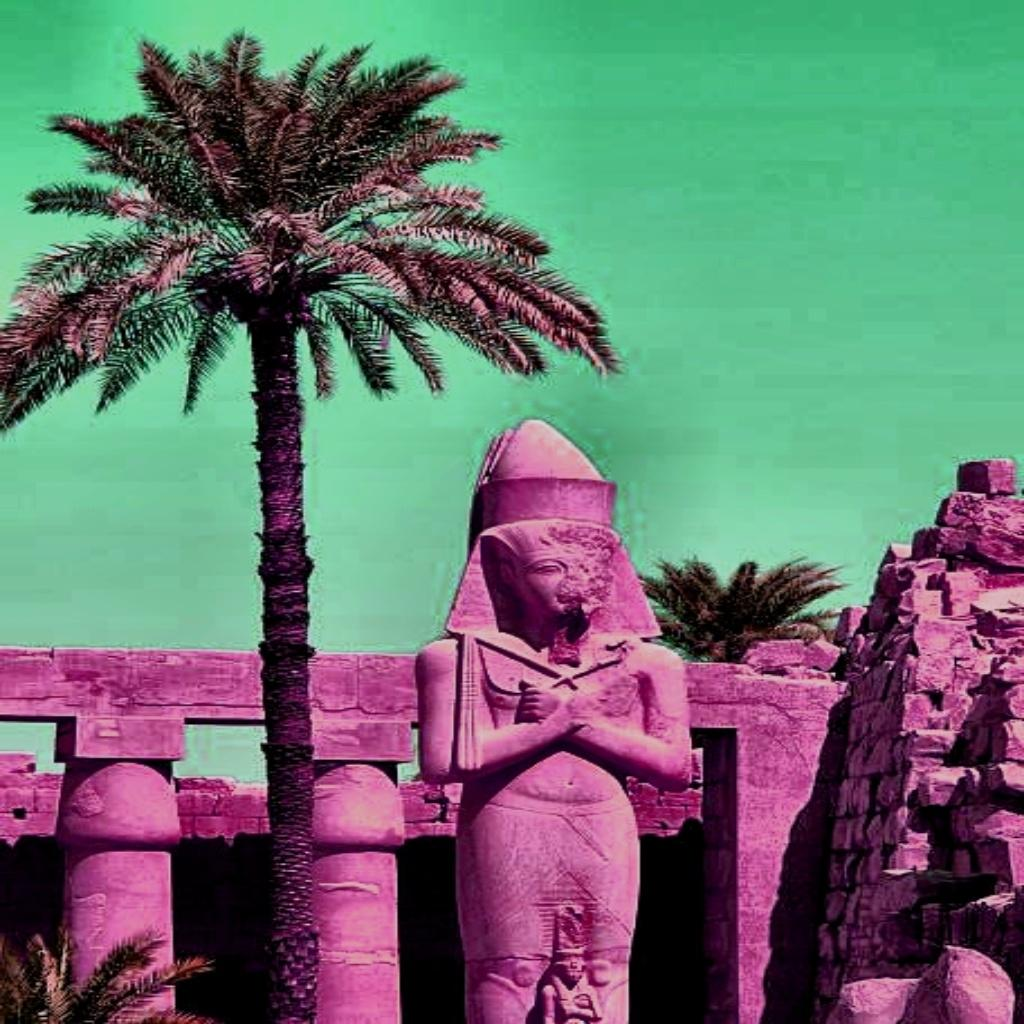Standing Statue of King Ramses II: (412, 416, 698, 1020)
